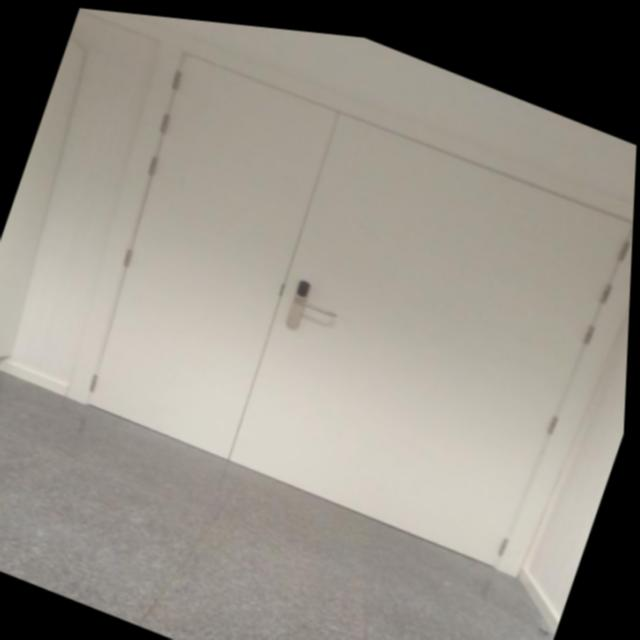door_handle: (293, 288, 345, 314)
